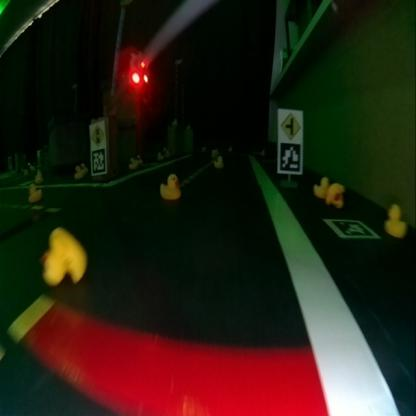Duckie: (42, 226, 86, 284), (382, 202, 405, 236), (160, 174, 181, 200), (326, 182, 344, 206), (312, 176, 329, 198), (27, 184, 41, 202), (215, 155, 224, 168), (74, 166, 82, 180), (128, 157, 137, 168), (80, 163, 88, 174), (34, 171, 42, 181), (136, 154, 142, 165), (157, 152, 163, 160)
Intersection sign: (280, 112, 300, 139)
QR code: (322, 218, 378, 238), (278, 140, 302, 172), (90, 148, 105, 174)
Signal sign: (89, 122, 105, 147)
Traffic light: (128, 54, 148, 88)
